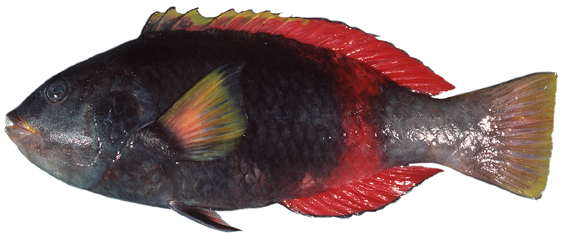fish: (5, 5, 559, 233)
